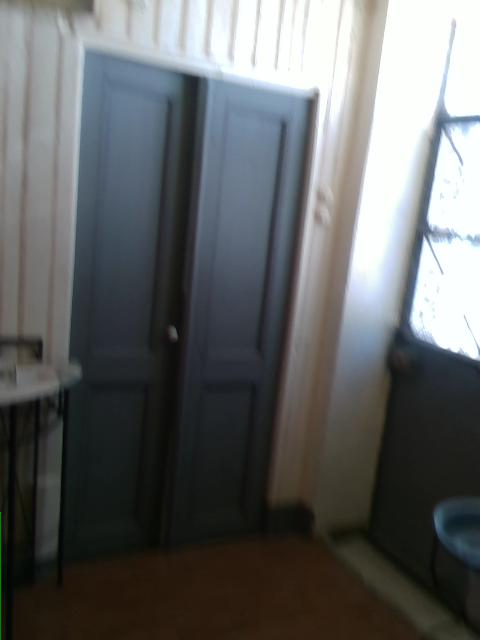door: (54, 43, 320, 563)
